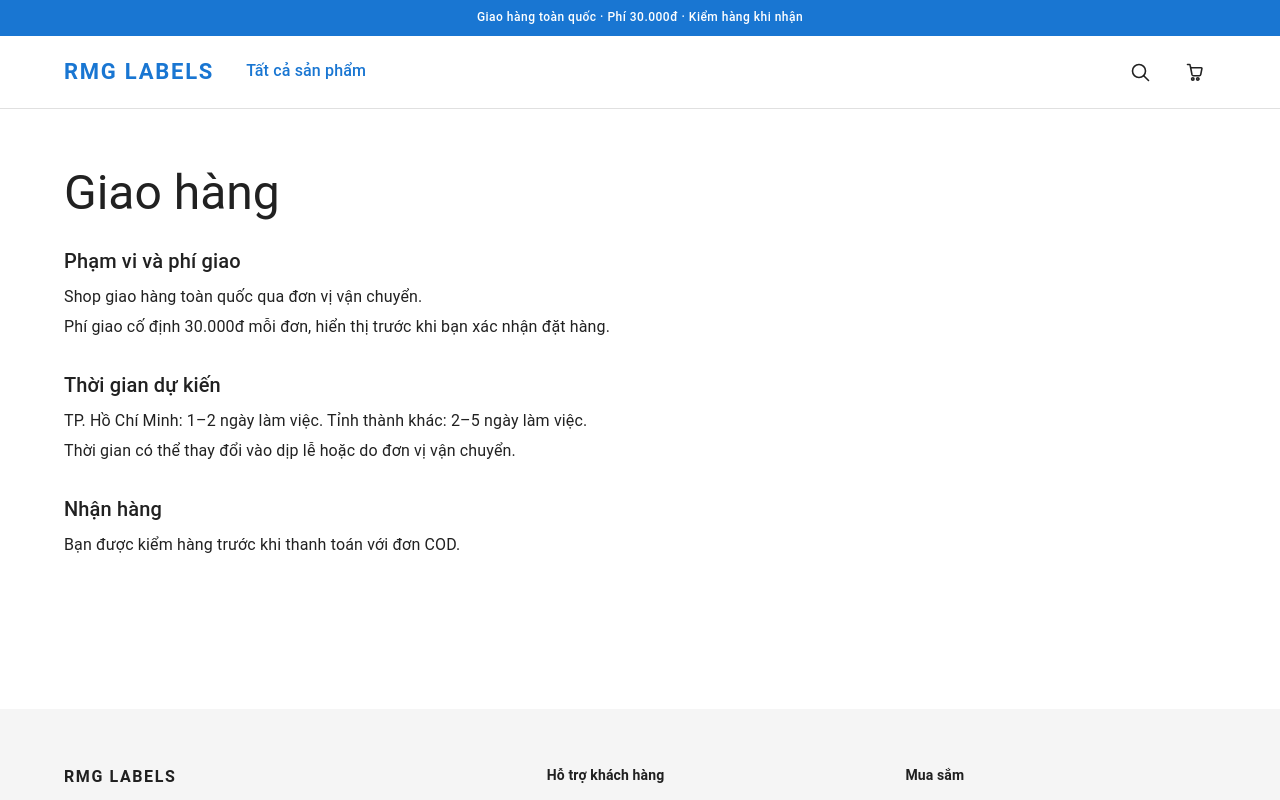
it: store layout of the real shop › searches the collection from any page
Click the button named "Mở ô tìm kiếm": (1140, 72) [1120, 52, 1160, 92]
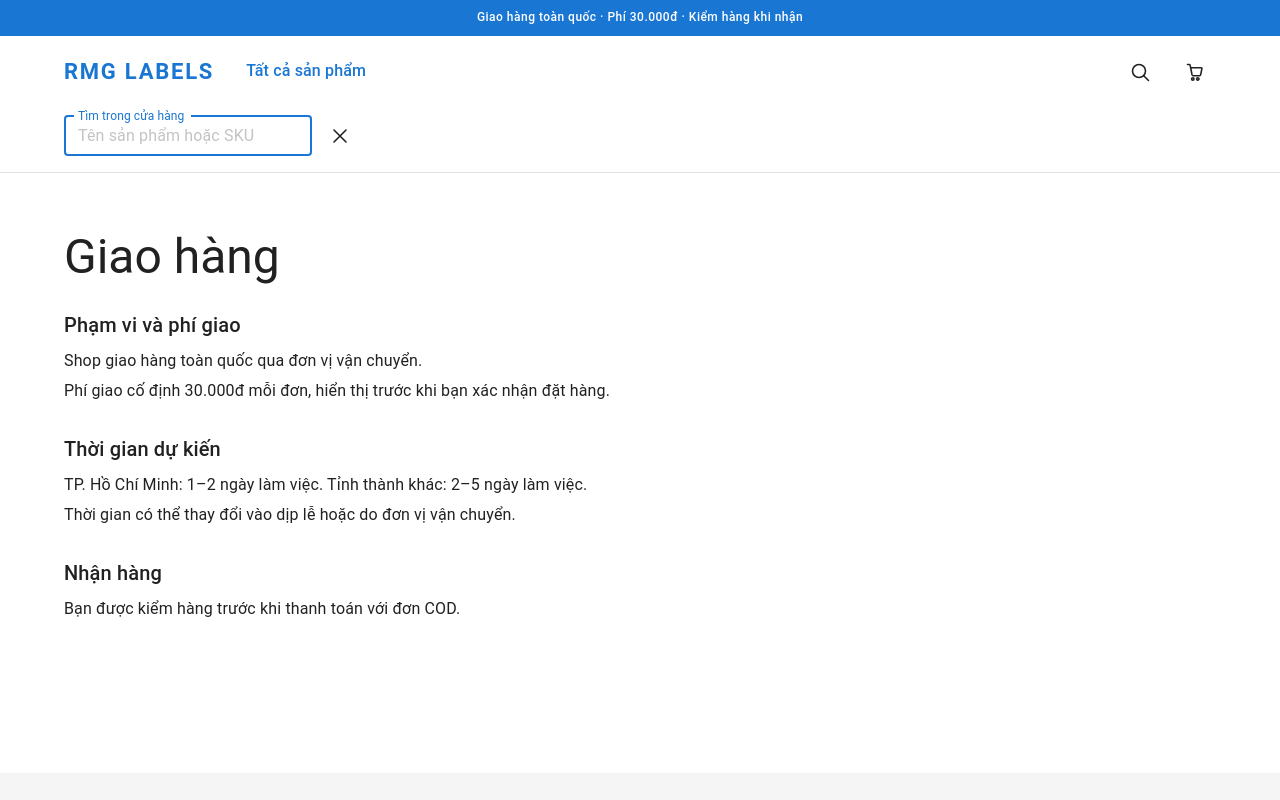
In the search field labelled "Tìm trong cửa hàng": (188, 136) [64, 116, 312, 156], type "áo khoác"
Then press Enter
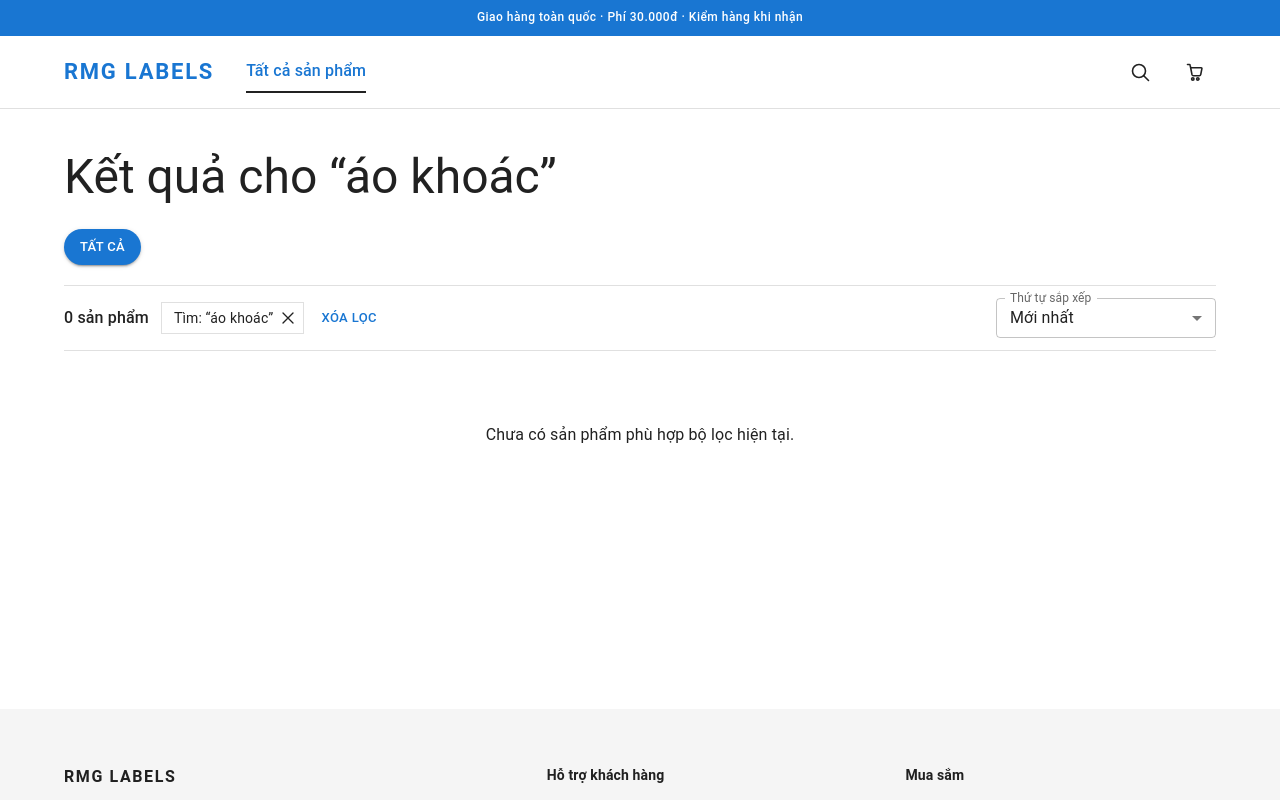
Check: the heading "Kết quả cho “áo khoác”" is shown, box [64, 148, 557, 205]
Check: the label "Tìm trong cửa hàng" is gone
